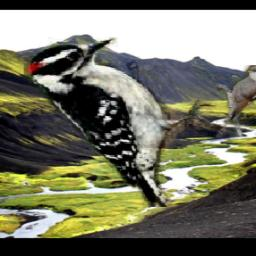Cuckoo: (217, 66, 256, 138)
Woodpecker: (25, 37, 228, 207)
